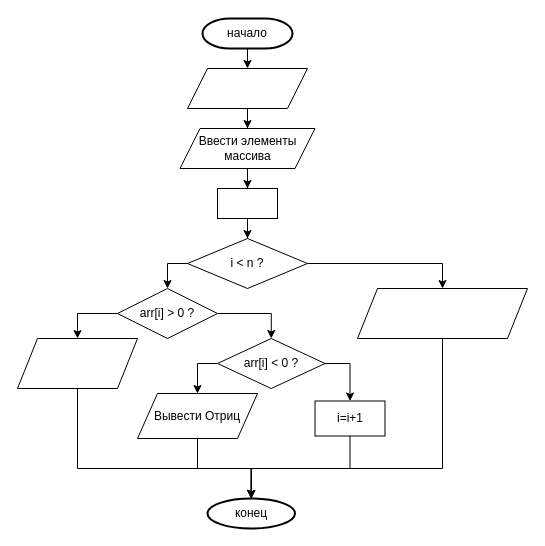
Some shapes in this 545 by 546 pixel diagram are drawn without their labels. Each missing label, with the centre of its shape:
i = 0: point 247,203
Ввести n: point 247,88
Вывести Полож: point 77,363
Вывести: "Нет положительных и отрицательных чисел": point 442,313
